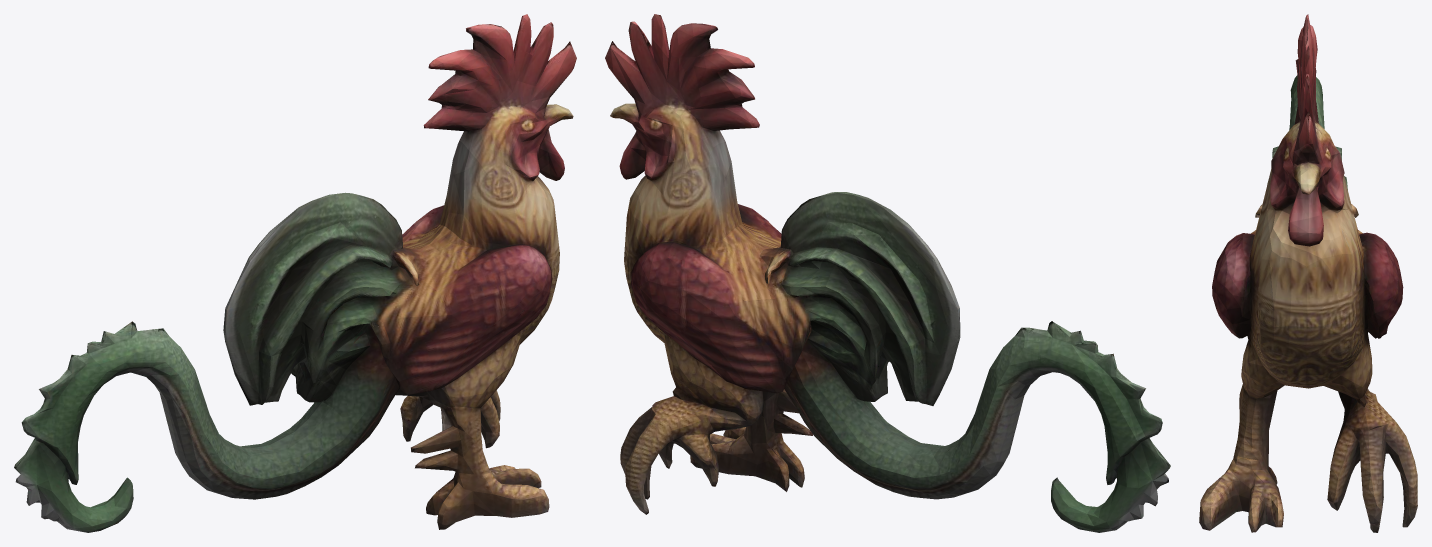
File: stillgaze__swiftCockatrice.glb
3 renders of one model, left to right at view 1: azimuth 30°, elevation 25°; view 2: azimuth 150°, elevation 25°; view 3: azimuth 270°, elevation 25°, orthographic. The views are drawn at different scales.
Visible parts, largest first — view 1: world; view 2: world; view 3: world.
Boxes of the visible parts, x1,y1,x2,y2 form: world: (14,14,576,532); world: (605,14,1170,532); world: (1199,14,1417,532).
Bounding box in the file's own units: 0.9913 × 0.7862 × 0.3063.
Materials: 1 (1 with a texture image).
